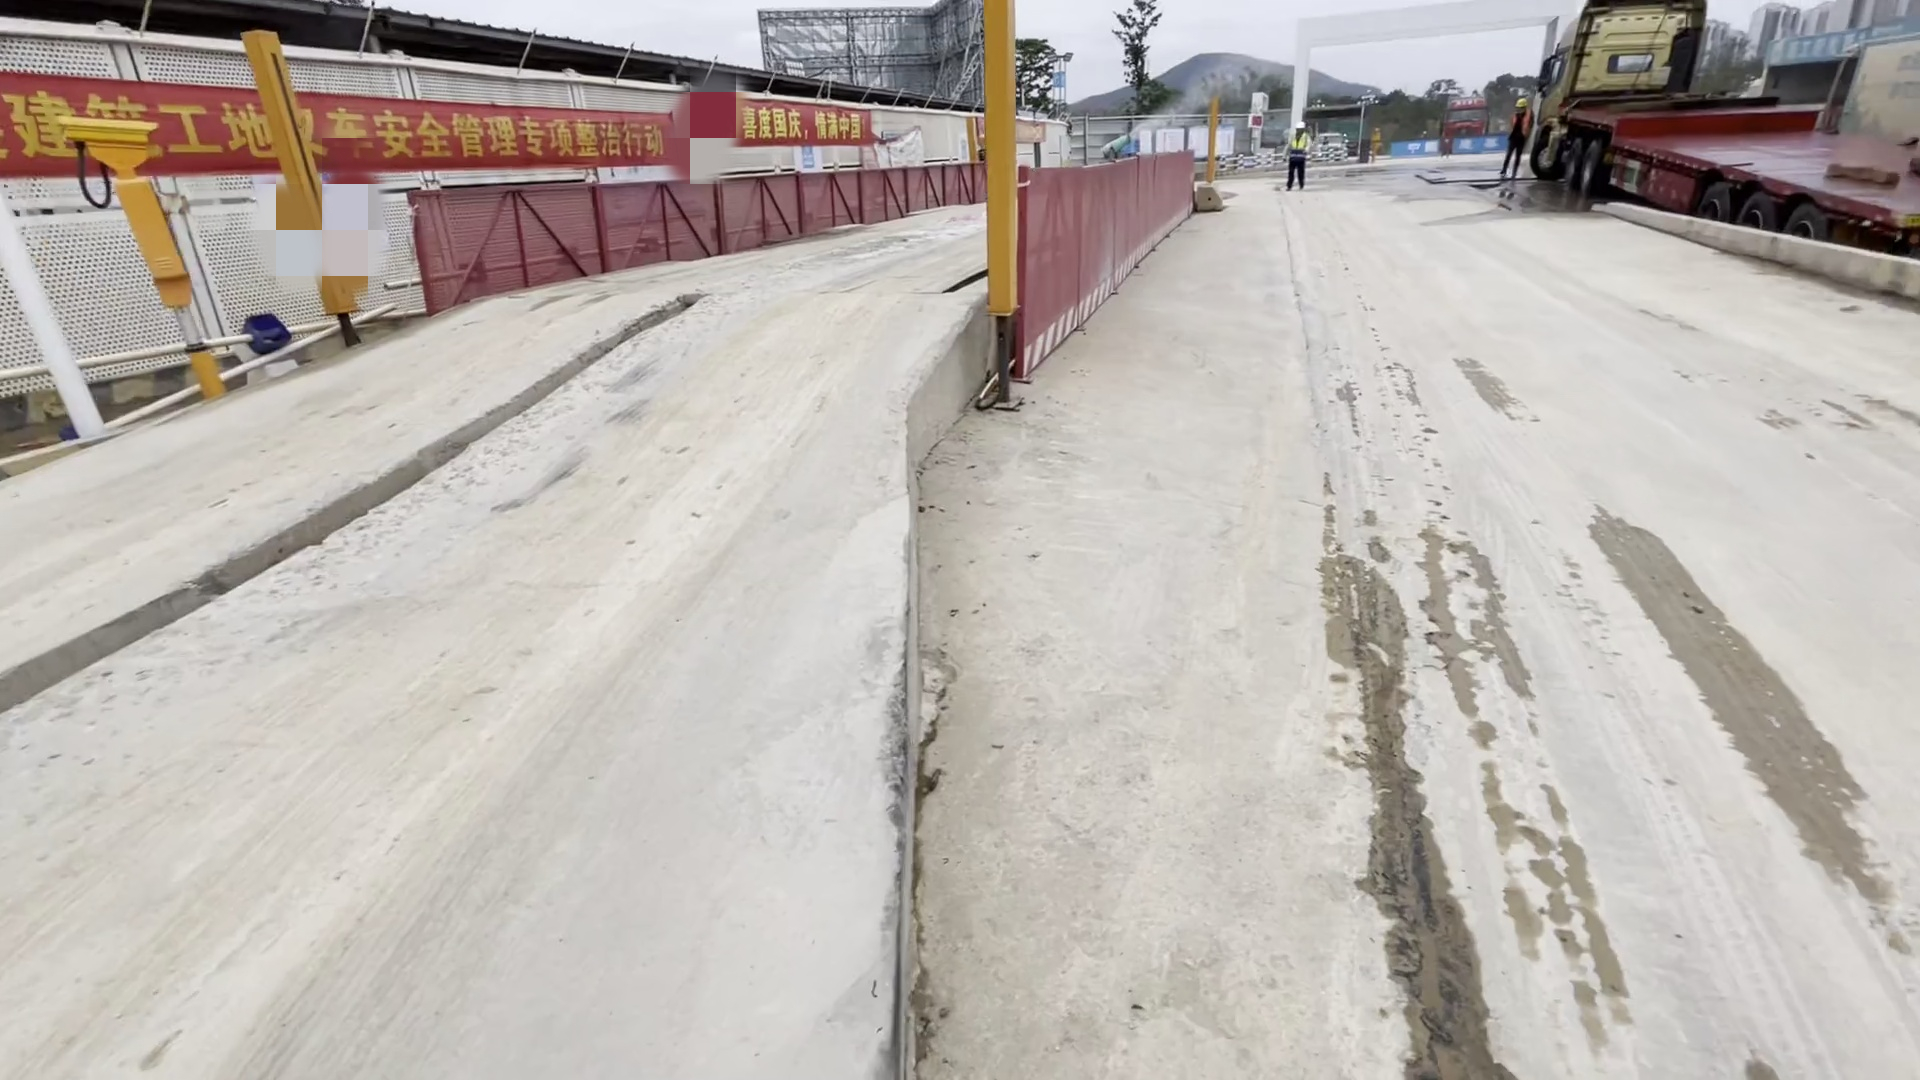fence: (401, 162, 982, 297), (1015, 164, 1204, 375)
person: (1499, 96, 1532, 192), (1288, 109, 1312, 199)
slogan: (8, 66, 875, 181)
